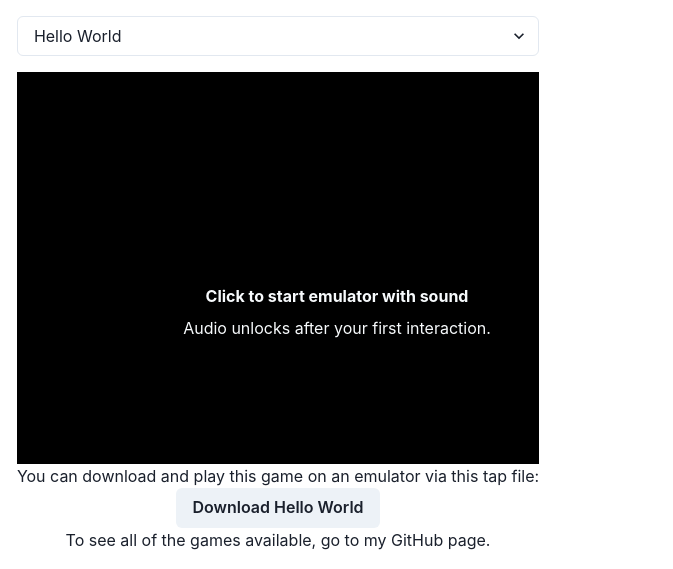
Home › starts the emulator when the overlay is clicked after the script loads
Click the button "Click to start emulator with sound" at (337, 312), box [17,72,657,552]
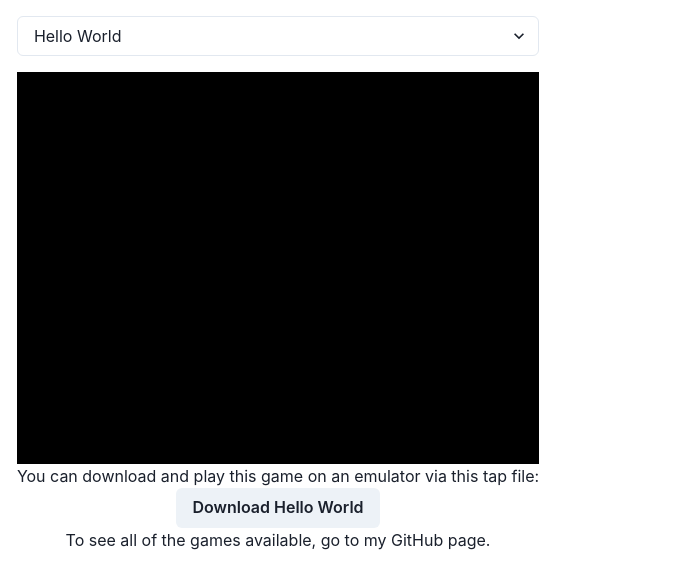
expect the button "Click to start emulator" is gone: met
